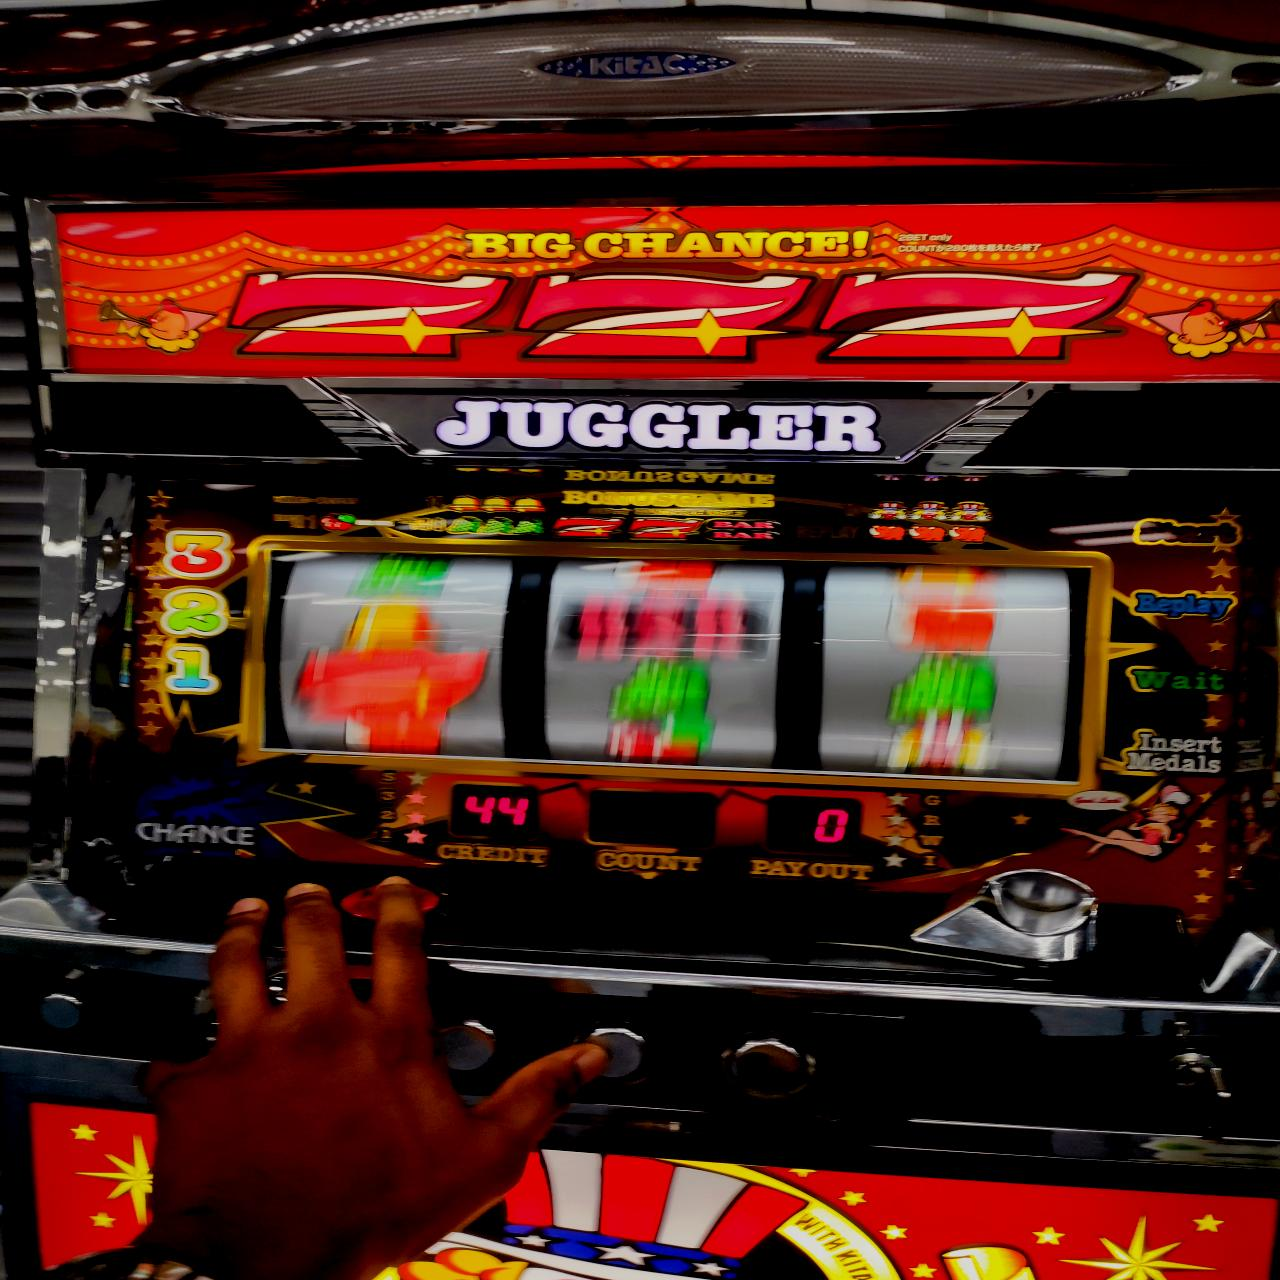rhino: (259, 547, 1110, 783)
